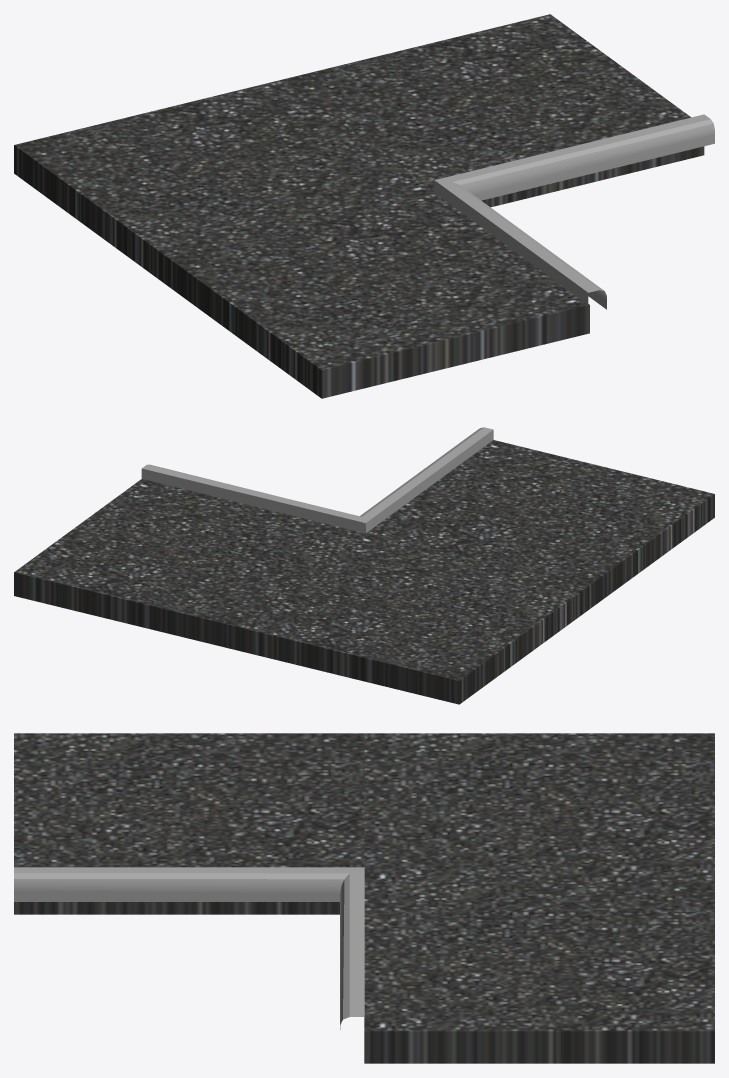
Rendered from trottoar_L.fbx.
3 views of the same model, one above another, from view 1: azimuth 30°, elevation 25°; view 2: azimuth 150°, elevation 25°; view 3: azimuth 270°, elevation 25° (orthographic). The views are drawn at different scales.
Parts seen in each view (by area): view 1: polySurface19; view 2: polySurface19; view 3: polySurface19.
Boxes of the visible parts, bbox=[...] form: polySurface19: bbox=[14, 14, 714, 398]; polySurface19: bbox=[14, 427, 714, 704]; polySurface19: bbox=[14, 733, 714, 1063].
Size of the model in its own units: 1737 by 127 by 1727.
